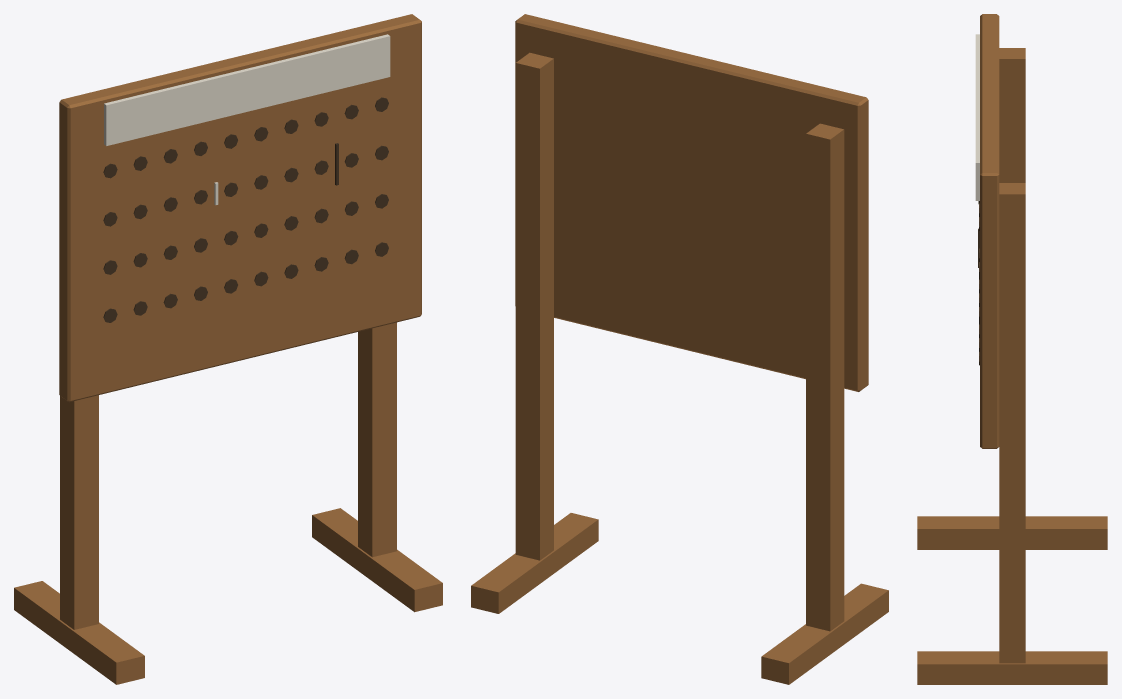
Rendered from Prop_Census_Board.glb.
3 views of the same model, side by side, from view 1: azimuth 30°, elevation 25°; view 2: azimuth 150°, elevation 25°; view 3: azimuth 270°, elevation 25° (orthographic). The views are drawn at different scales.
Visible parts, largest first — view 1: Prop_Census_Board; view 2: Prop_Census_Board; view 3: Prop_Census_Board.
Boxes of the visible parts, <box> form: Prop_Census_Board: <box>14,14,442,684</box>; Prop_Census_Board: <box>471,14,888,684</box>; Prop_Census_Board: <box>917,14,1107,684</box>.
Size of what is drawn, in the model's own units: 1 by 1.5 by 0.5.
